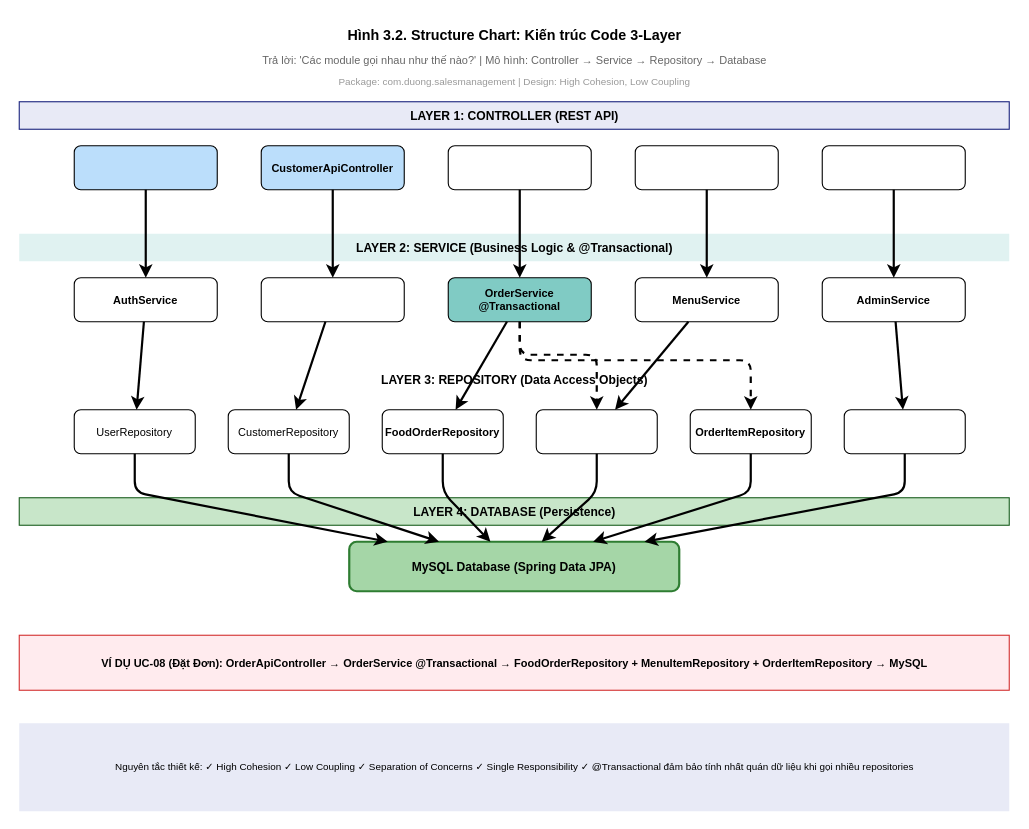
The diagram is 1029 pixels wide and 829 high, and some of its shapes have lost their labels. Each missing label, with the centre of its shape:
"AdminApiController" goes at [893,167].
"AuthApiController" goes at [145,167].
"CustomerService" goes at [332,299].
"MenuApiController" goes at [706,167].
"MenuItemRepository" goes at [596,431].
"OrderApiController" goes at [519,167].
"PaymentRepository" goes at [904,431].
